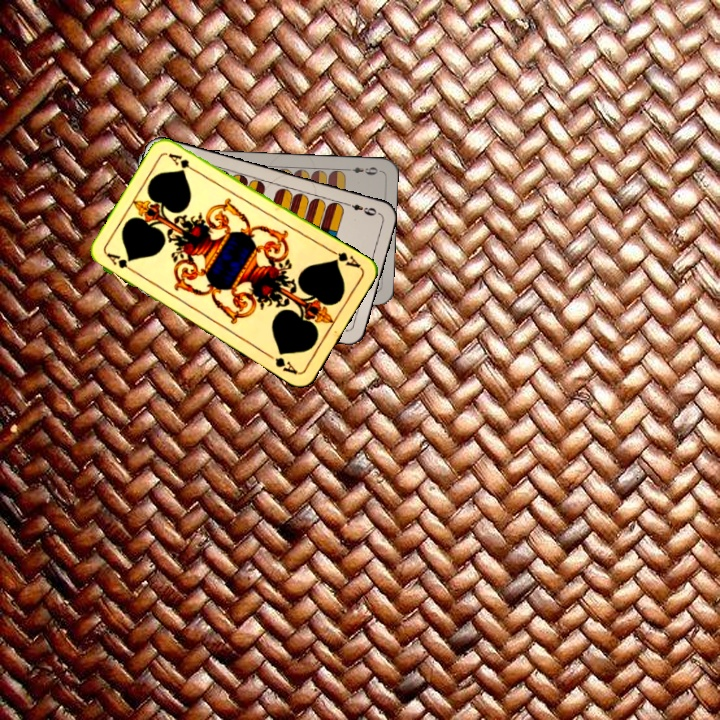E9: (341, 199, 379, 218), (341, 163, 380, 178)
GA: (102, 249, 139, 276), (326, 245, 363, 271)
